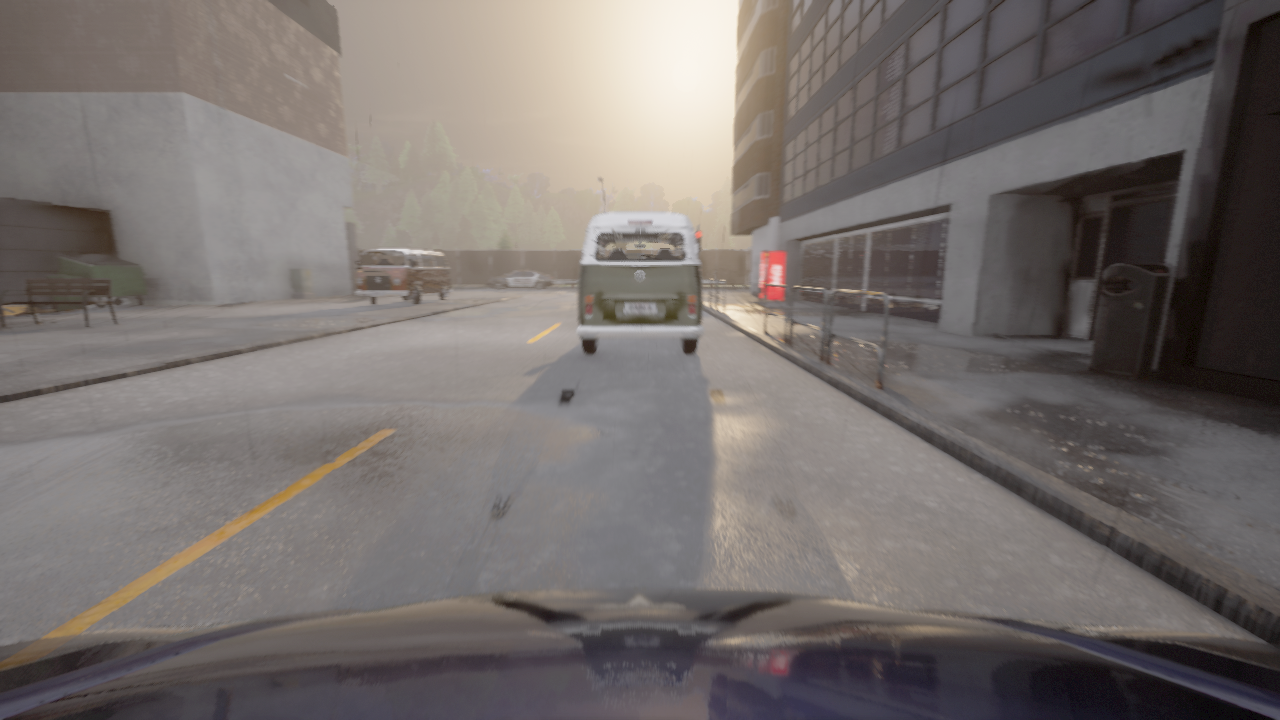cyclist: (0, 588, 1279, 719), (576, 211, 704, 354), (355, 248, 452, 304), (486, 269, 555, 289)
pedestrian: (447, 261, 451, 279)
